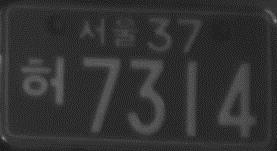1: (181, 56, 205, 141)
3: (127, 55, 168, 136), (144, 15, 174, 52)
4: (215, 61, 261, 138)
7: (79, 52, 123, 134), (175, 16, 205, 52)
서울_O: (76, 16, 140, 50)
허: (20, 53, 67, 108)
